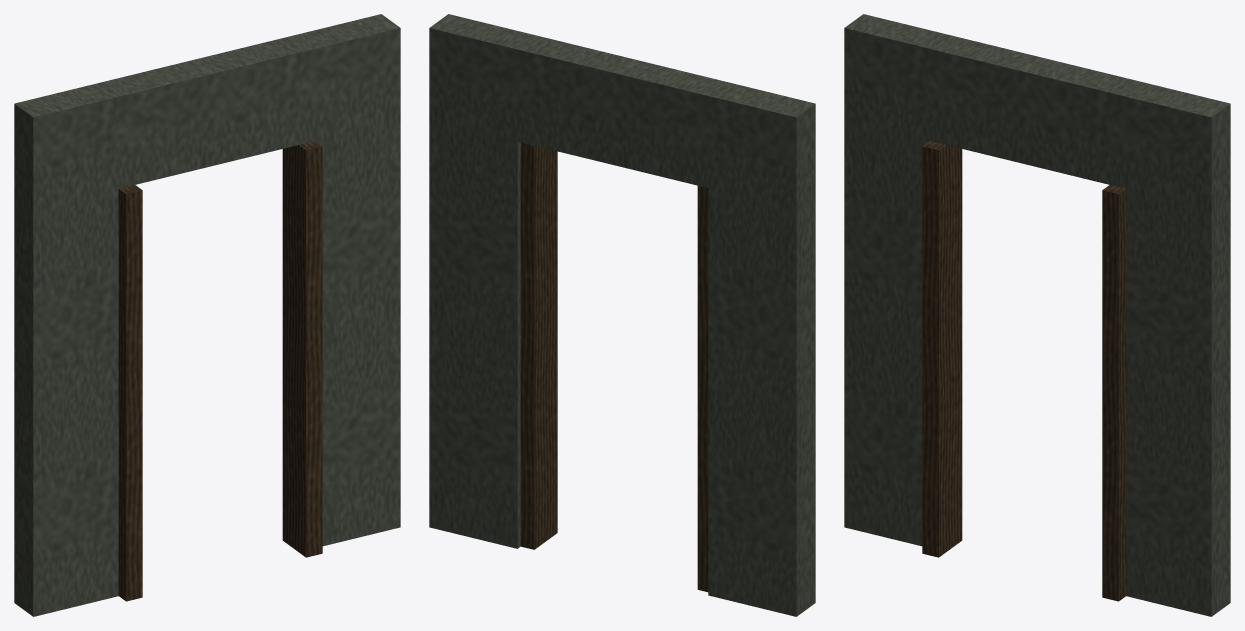
Rendered from Wall_Doorway_2m.glb.
3 views of the same model, side by side, from view 1: azimuth 30°, elevation 25°; view 2: azimuth 150°, elevation 25°; view 3: azimuth 330°, elevation 25° (orthographic).
Parts seen in each view (by area): view 1: Wall_Doorway_2m; view 2: Wall_Doorway_2m; view 3: Wall_Doorway_2m.
Part boxes in pixels (bbox=[...]): Wall_Doorway_2m: bbox=[14, 14, 400, 616]; Wall_Doorway_2m: bbox=[429, 14, 815, 616]; Wall_Doorway_2m: bbox=[844, 14, 1230, 616].
Bounding box in the file's own units: 2 × 2.6 × 0.25.
2 materials, 2 textured.
